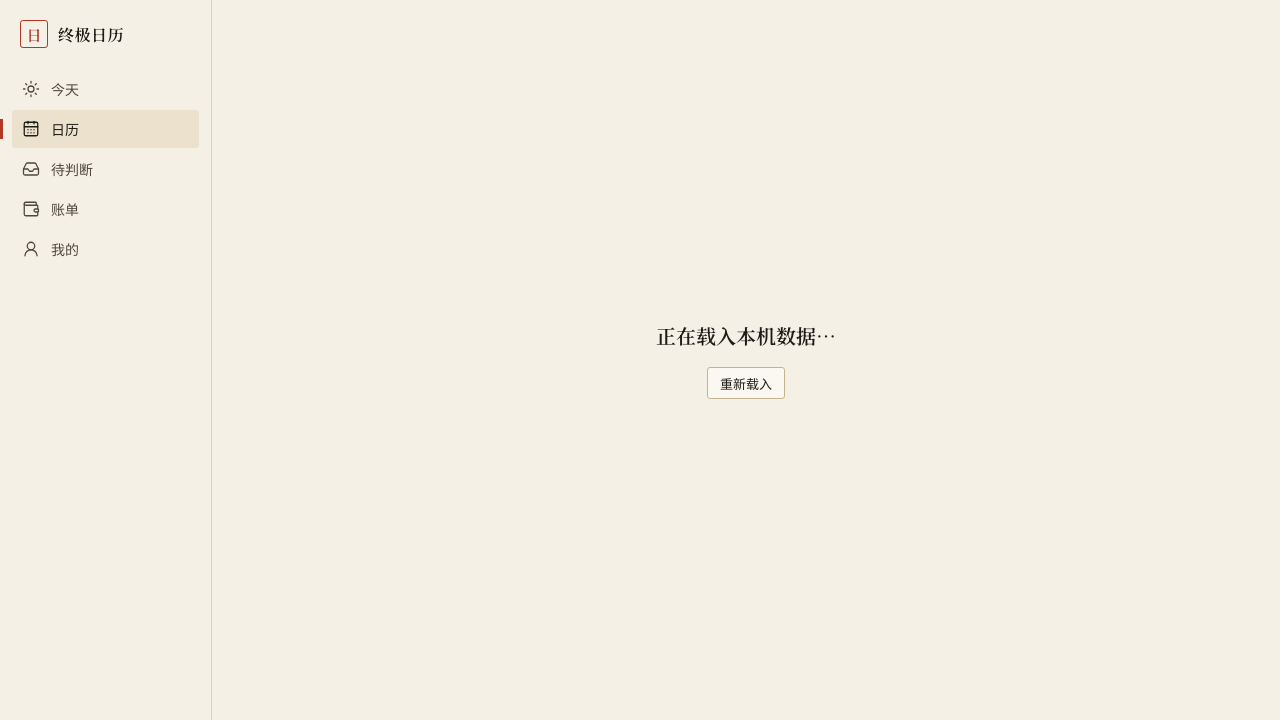
Test: renders the planner from a data client alone and hides host-only pages
The width and height of the screenshot is (1280, 720).
Expected: the button "待判断" is shown, [12,150,199,188]
Click the button "我的" at (106, 249), box [12,230,199,268]
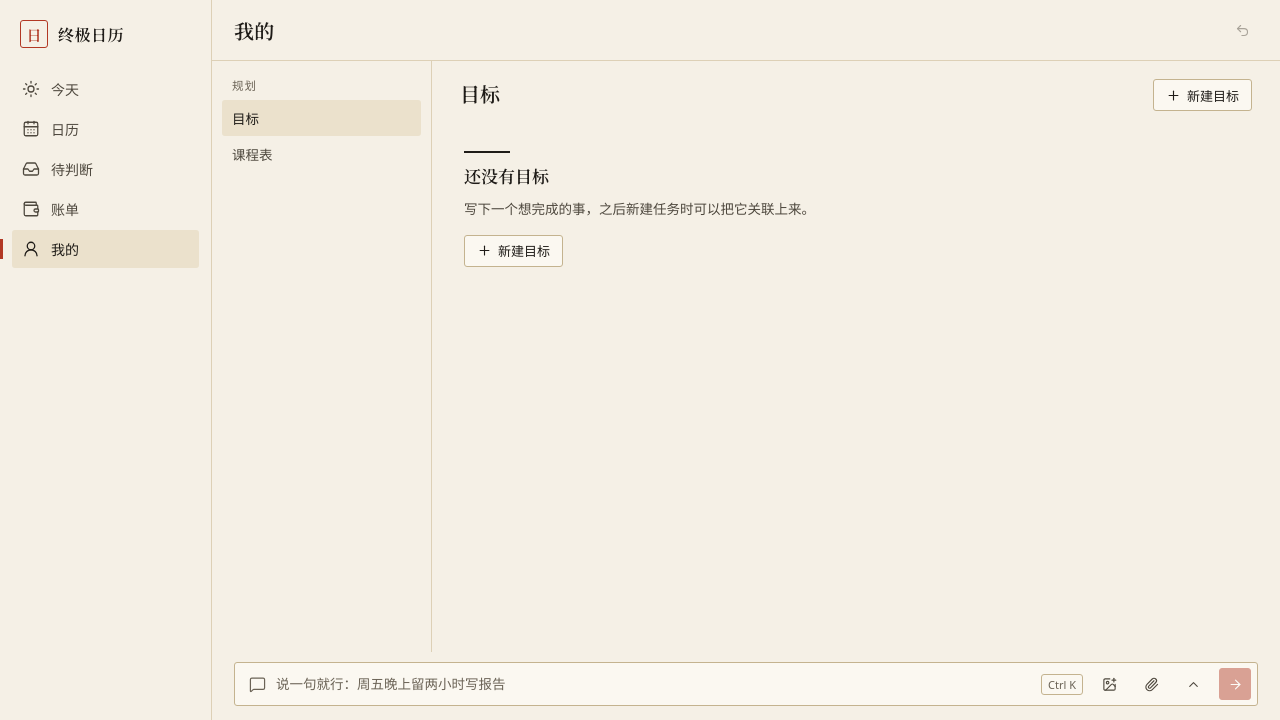
Expected: the button "课程表" is shown, [222,136,421,172]
